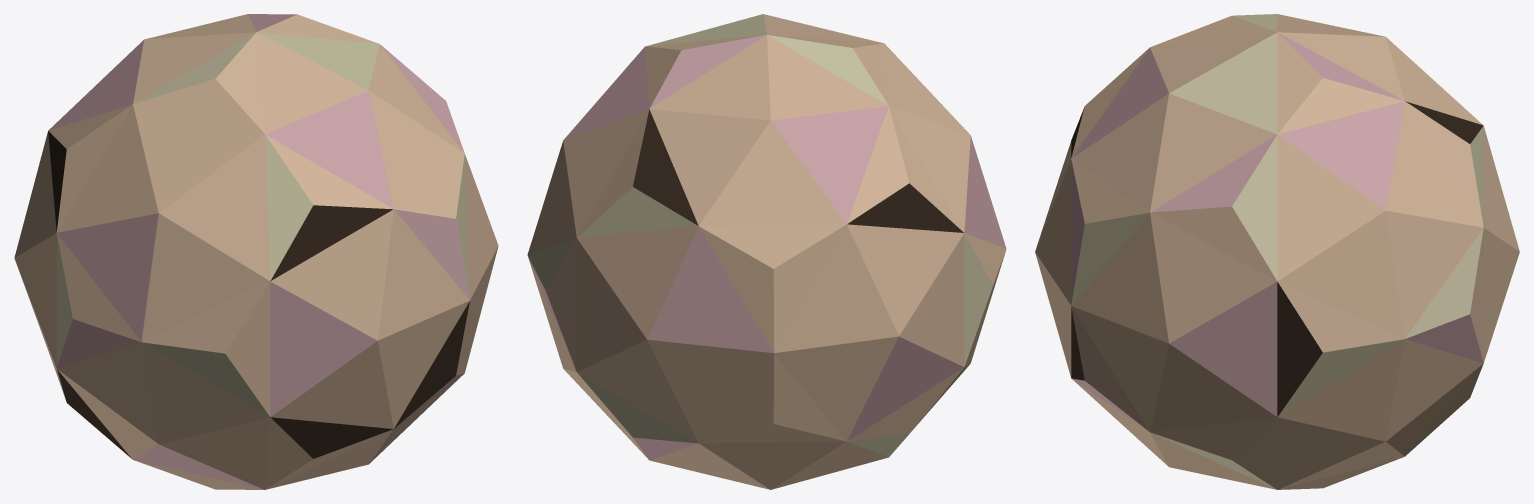
File: SeedBomb.fbx
3 views of the same model, side by side, from view 1: azimuth 30°, elevation 25°; view 2: azimuth 150°, elevation 25°; view 3: azimuth 270°, elevation 25° (orthographic).
Visible parts, largest first — view 1: SeedsBomb; view 2: SeedsBomb; view 3: SeedsBomb.
Boxes of the visible parts, x1,y1,x2,y2 form: SeedsBomb: (14,14,498,489); SeedsBomb: (527,14,1006,489); SeedsBomb: (1035,14,1519,489).
Size of the model in its own units: 12.95 by 13.19 by 13.19.
